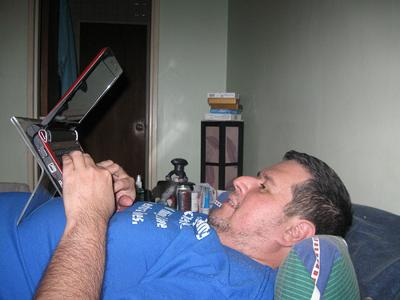person: (5, 150, 353, 300)
